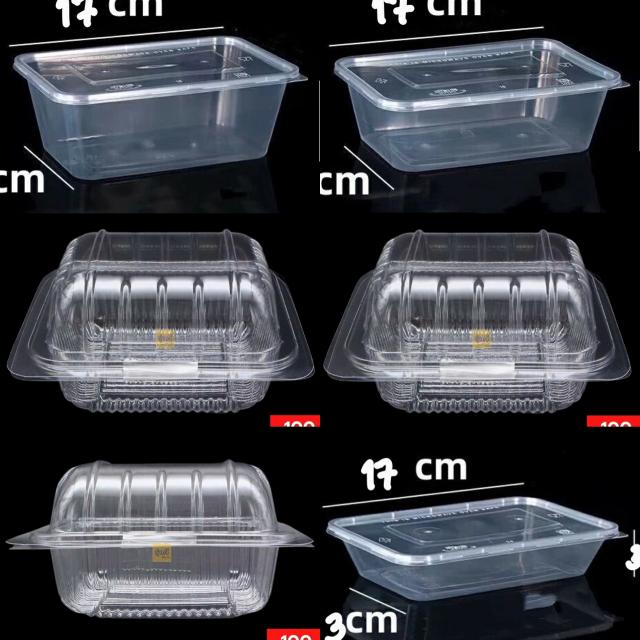Single-Use-Plastic: (8, 230, 313, 412), (325, 231, 629, 412), (8, 460, 311, 618), (14, 36, 304, 180), (334, 39, 627, 171), (328, 498, 623, 601)
